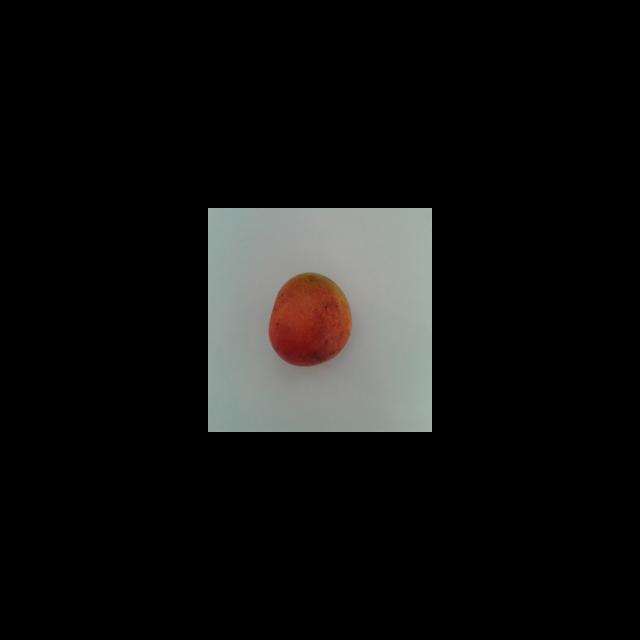Mango: (268, 271, 352, 366)
